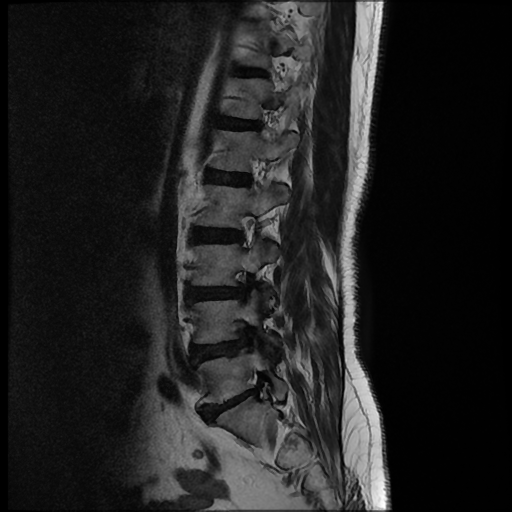RFS0: (229, 205, 265, 257)
RFS3: (224, 264, 259, 308)
